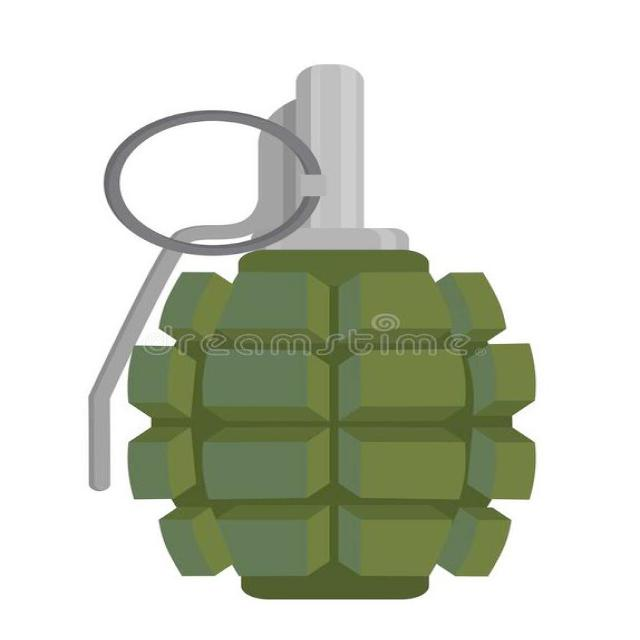grenade: (89, 64, 536, 600)
